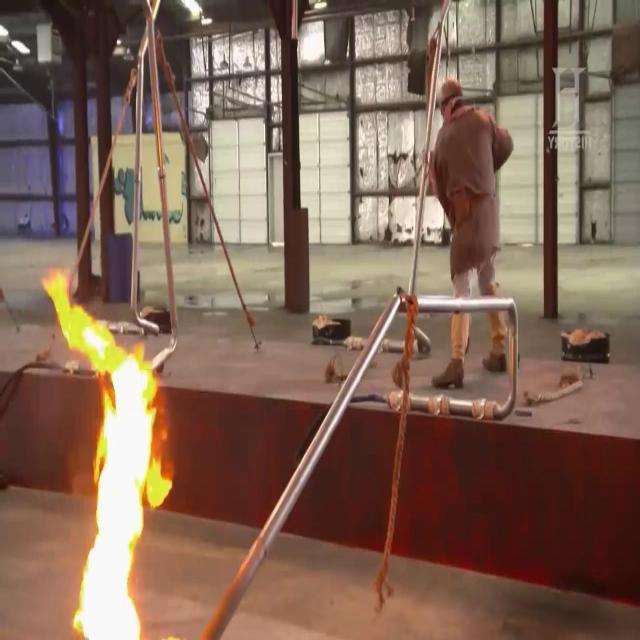Fire: (40, 255, 174, 640)
